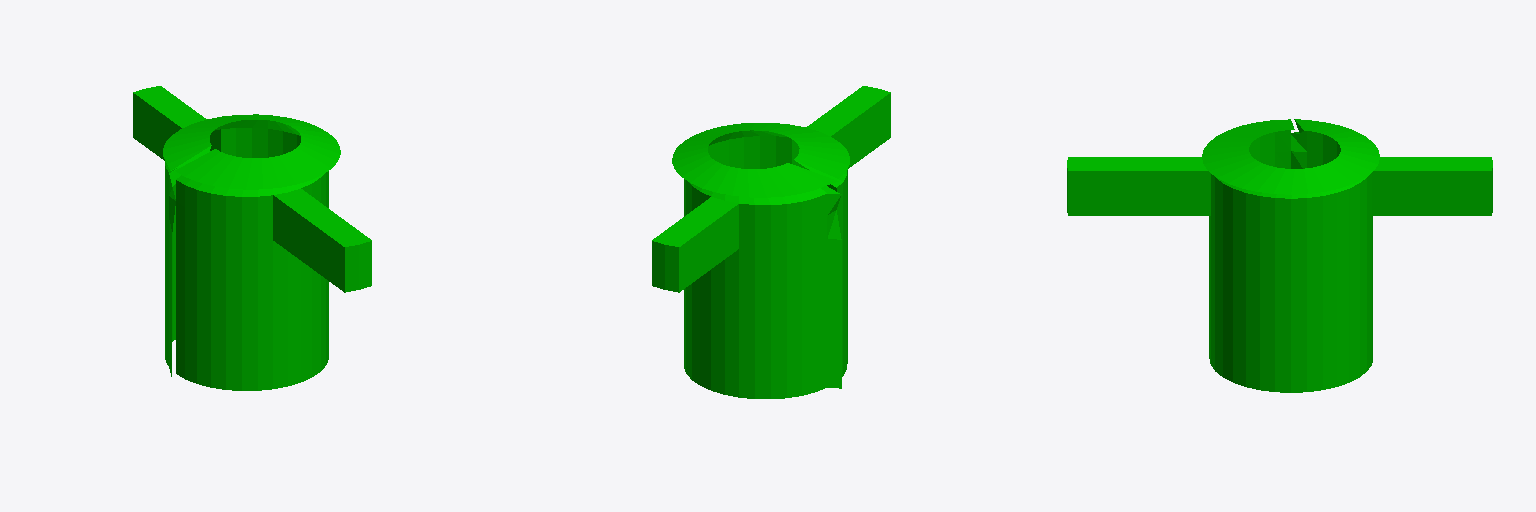
Rendered from shirt.obj.
3 renders of one model, left to right at view 1: azimuth 30°, elevation 25°; view 2: azimuth 150°, elevation 25°; view 3: azimuth 270°, elevation 25°, orthographic.
Visible parts, largest first — view 1: 円柱; view 2: 円柱; view 3: 円柱.
Boxes of the visible parts, x1,y1,x2,y2 form: 円柱: [133, 86, 371, 390]; 円柱: [652, 86, 890, 398]; 円柱: [1067, 119, 1492, 392].
Bounding box in the file's own units: 2.21 × 2.95 × 5.2.